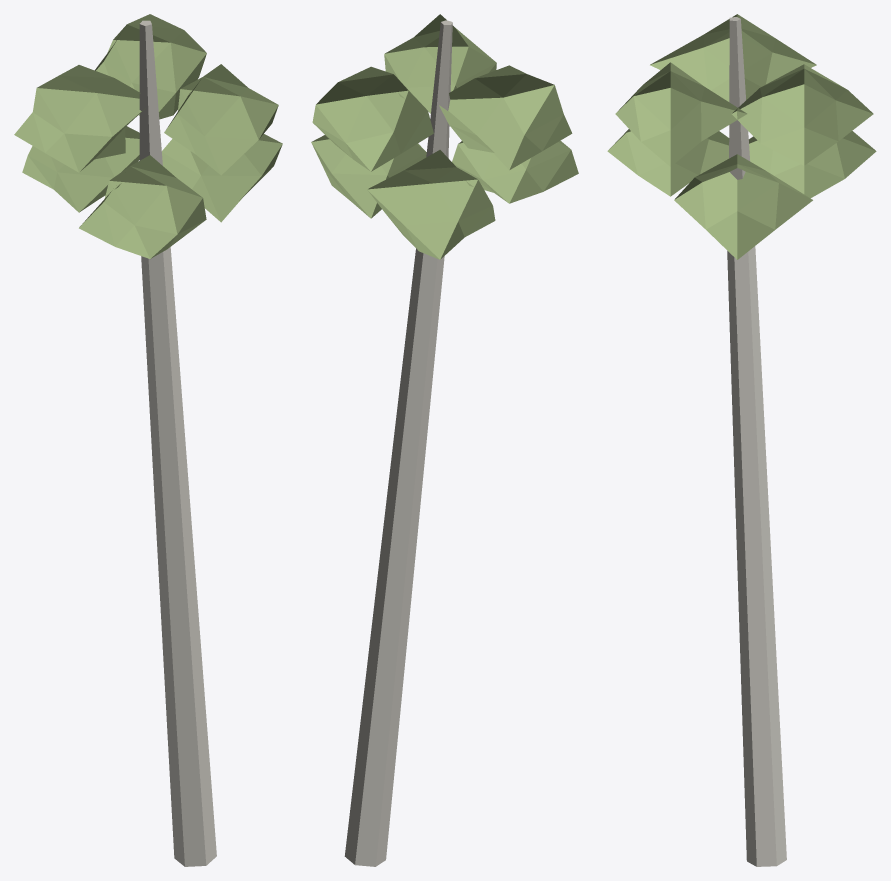
The model's file is birch_v08.glb.
3 renders of one model, left to right at view 1: azimuth 30°, elevation 25°; view 2: azimuth 150°, elevation 25°; view 3: azimuth 270°, elevation 25°, orthographic. The views are drawn at different scales.
Parts seen in each view (by area): view 1: lod0; view 2: lod0; view 3: lod0.
Boxes of the visible parts, x1=… form: lod0: x1=14, y1=14, x2=282, y2=866; lod0: x1=311, y1=14, x2=578, y2=866; lod0: x1=607, y1=14, x2=876, y2=866.
Size of what is drawn, in the model's own units: 1.89 by 5.81 by 1.75.
